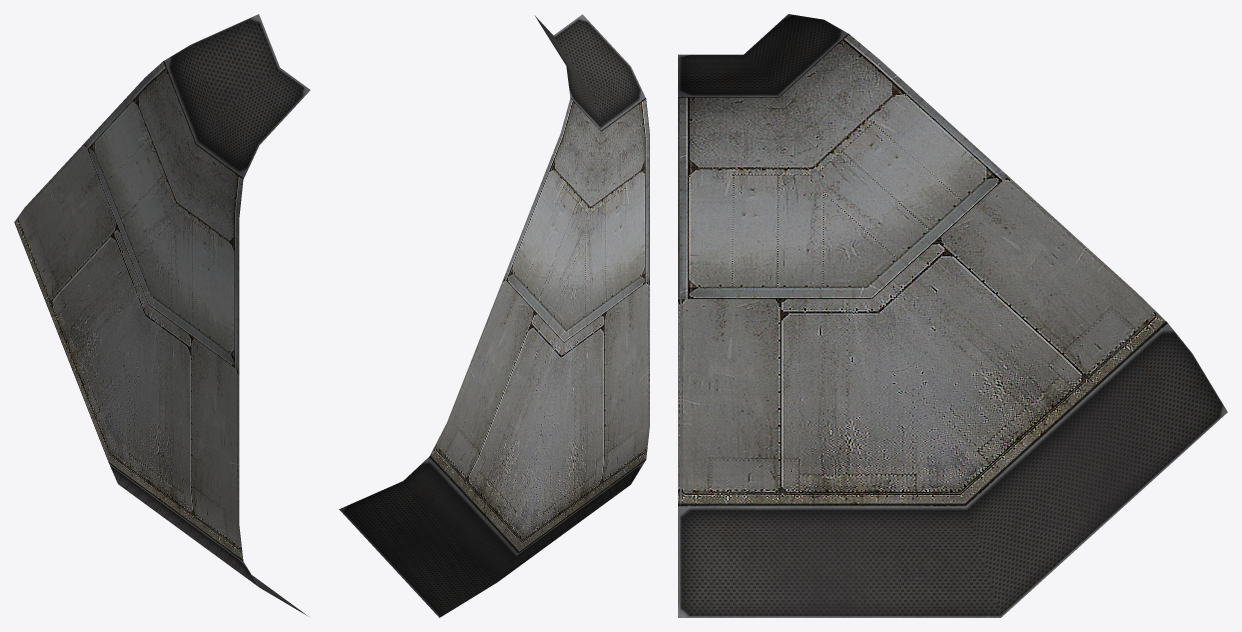
File: Wall_B_Mid4mts_17.fbx
3 views of the same model, side by side, from view 1: azimuth 30°, elevation 25°; view 2: azimuth 150°, elevation 25°; view 3: azimuth 270°, elevation 25° (orthographic). The views are drawn at different scales.
Visible parts, largest first — view 1: Wall_B_Mid4mts_17; view 2: Wall_B_Mid4mts_17; view 3: Wall_B_Mid4mts_17.
Boxes of the visible parts, box(x1,y1,x2,y2) form: Wall_B_Mid4mts_17: box(14, 14, 310, 616); Wall_B_Mid4mts_17: box(339, 14, 649, 617); Wall_B_Mid4mts_17: box(678, 14, 1227, 617).
Size of the model in its own units: 56.57 by 429 by 354.
1 material, 1 textured.
